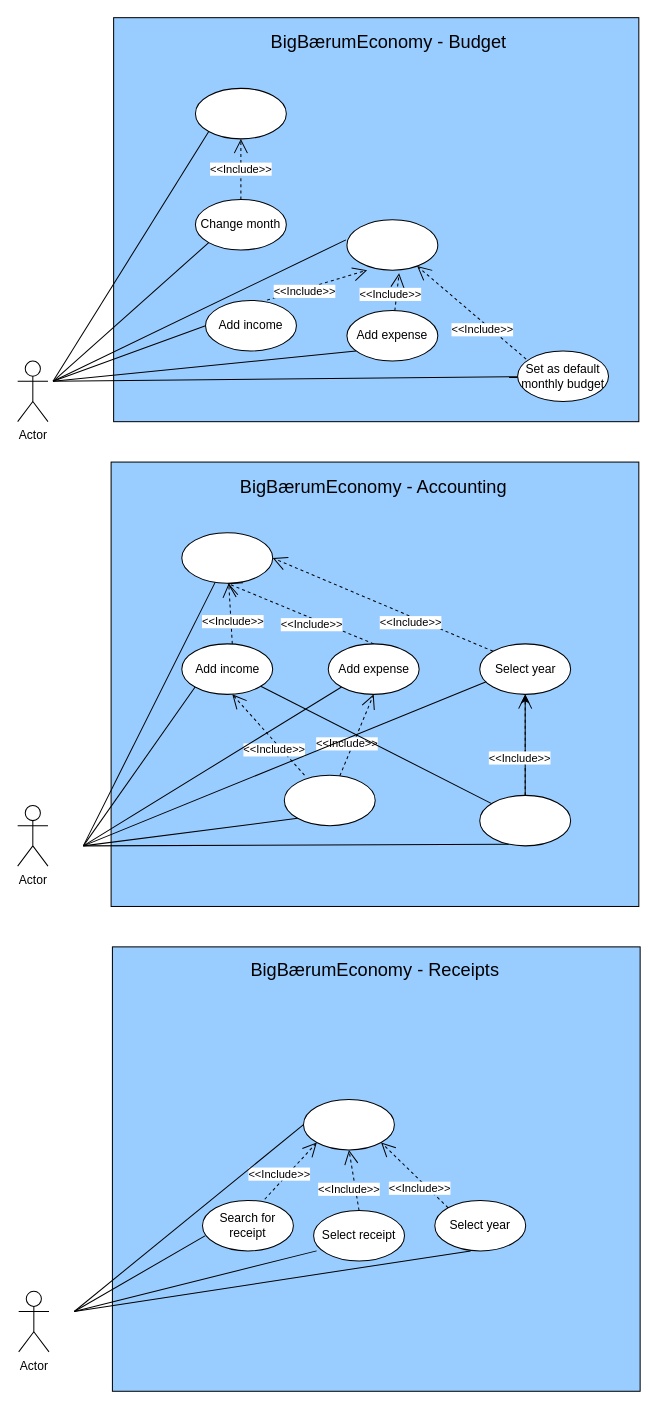
This 659x1409 diagram has some shape labels left out. Each missing label, with the centre of its shape:
Add receipt: (329,800)
Select month: (525,820)
View Accounting: (227,557)
View Budget: (392,244)
View Overview: (240,113)
View Receipts: (348,1124)
